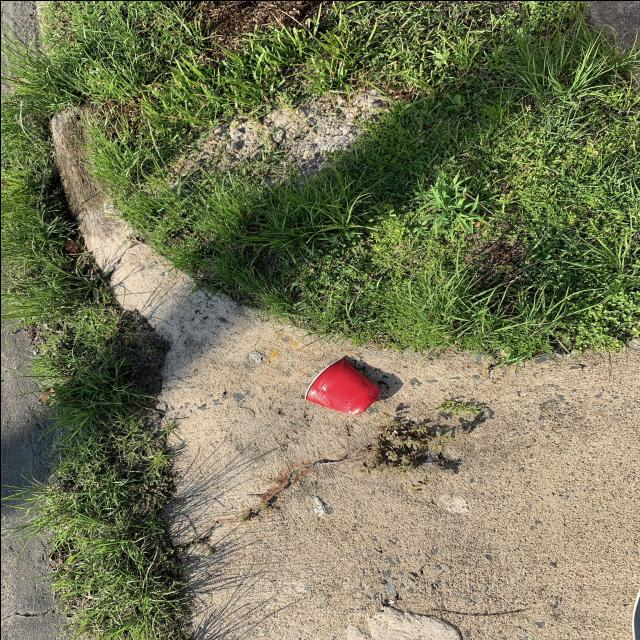Disposable plastic cup: (304, 357, 379, 414)
